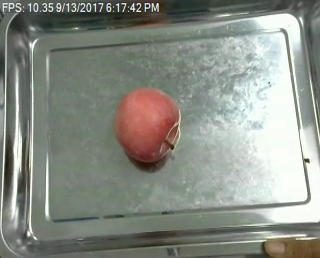Apple: (113, 83, 179, 167)
